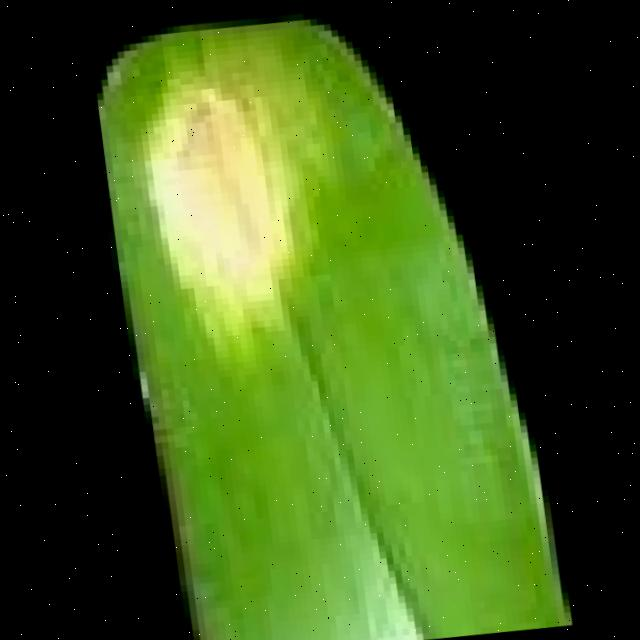mite: (137, 369, 163, 423), (137, 369, 162, 410)
spots: (81, 6, 589, 640)
